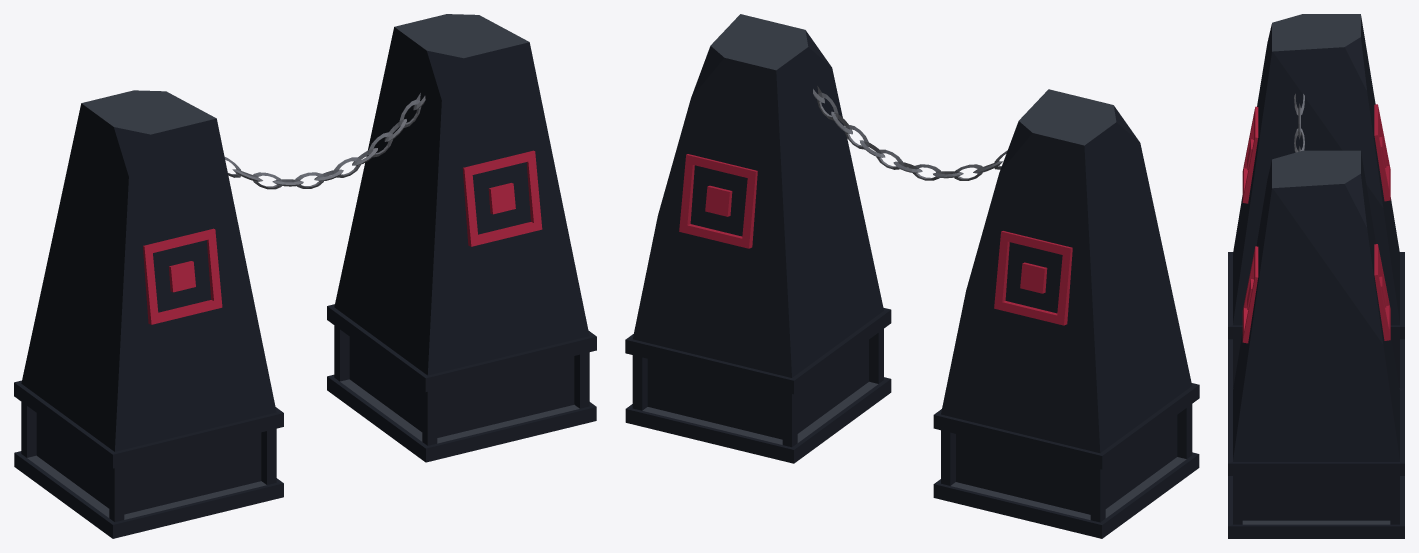
Rendered from pillier.fbx.
3 views of the same model, side by side, from view 1: azimuth 30°, elevation 25°; view 2: azimuth 150°, elevation 25°; view 3: azimuth 270°, elevation 25° (orthographic). The views are drawn at different scales.
Visible parts, largest first — view 1: Pillier; view 2: Pillier; view 3: Pillier.
Boxes of the visible parts, x1,y1,x2,y2 form: Pillier: [14, 14, 596, 538]; Pillier: [625, 14, 1199, 538]; Pillier: [1228, 14, 1404, 538].
Bounding box in the file's own units: 512 × 375 × 181.
